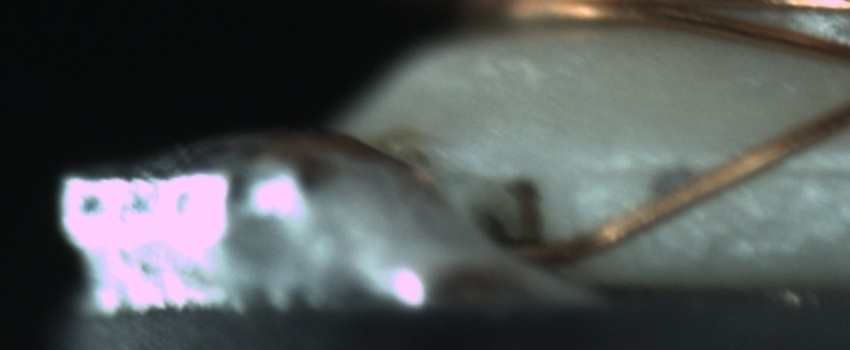DL: (580, 136, 841, 202)
